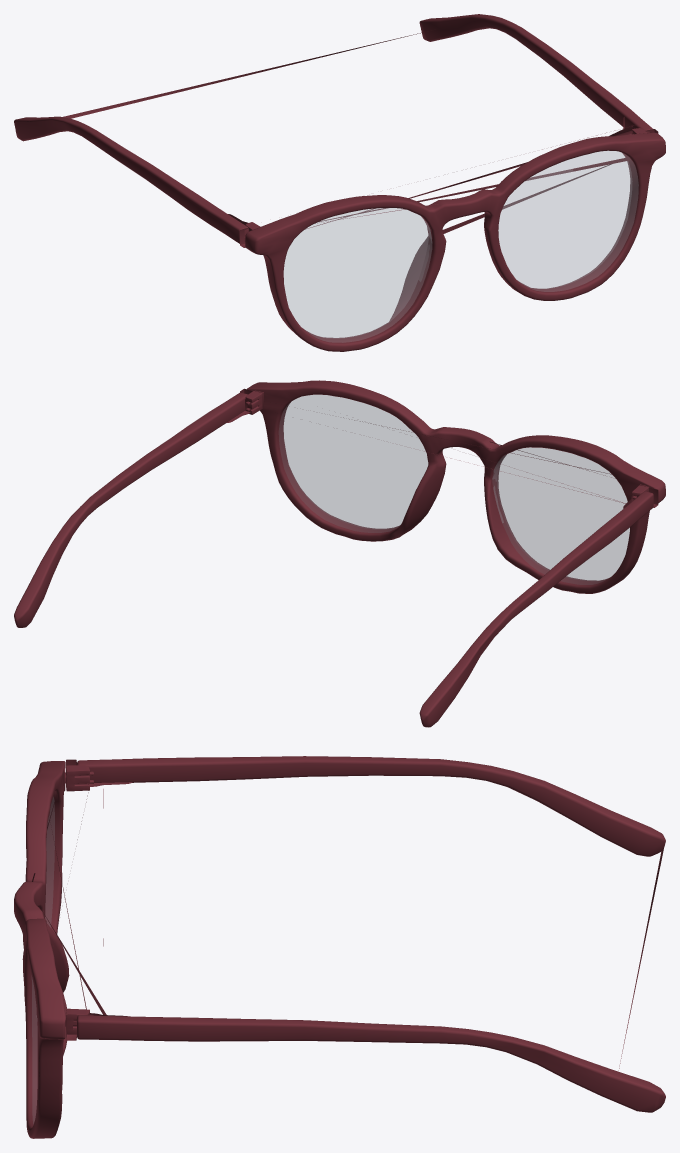
Rendered from model_1_burgundy_wine.glb.
The picture shows the model from 3 angles, top to bottom: view 1: azimuth 30°, elevation 25°; view 2: azimuth 150°, elevation 25°; view 3: azimuth 270°, elevation 25°; orthographic projection. The views are drawn at different scales.
Visible parts, largest first — view 1: model_0; view 2: model_0; view 3: model_0.
Part boxes in pixels (x1=…): model_0: x1=14, y1=14, x2=665, y2=351; model_0: x1=14, y1=380, x2=665, y2=727; model_0: x1=14, y1=756, x2=665, y2=1138.
Bounding box in the file's own units: 0.565 × 0.1842 × 0.5717.
